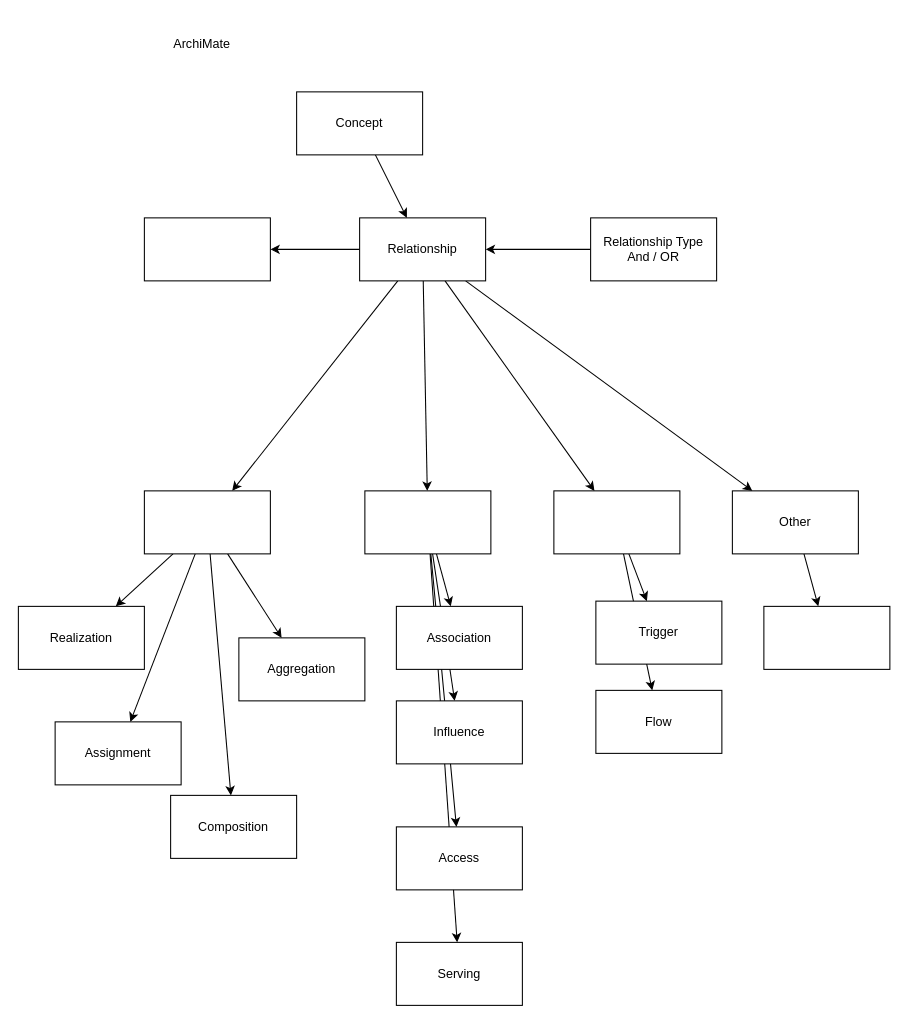
The diagram is 908 pixels wide and 1024 high, and some of its shapes have lost their labels. The box of each missing label's shape, as (x1, y1, x2, y2) in pixels:
Dependecy: (364, 490, 491, 554)
Dynamic: (553, 490, 680, 554)
Element: (143, 217, 270, 281)
Specialisation: (763, 605, 890, 669)
Structural: (143, 490, 270, 554)
